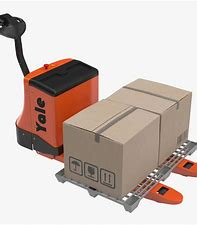Pallet Jack: (1, 13, 197, 213)
